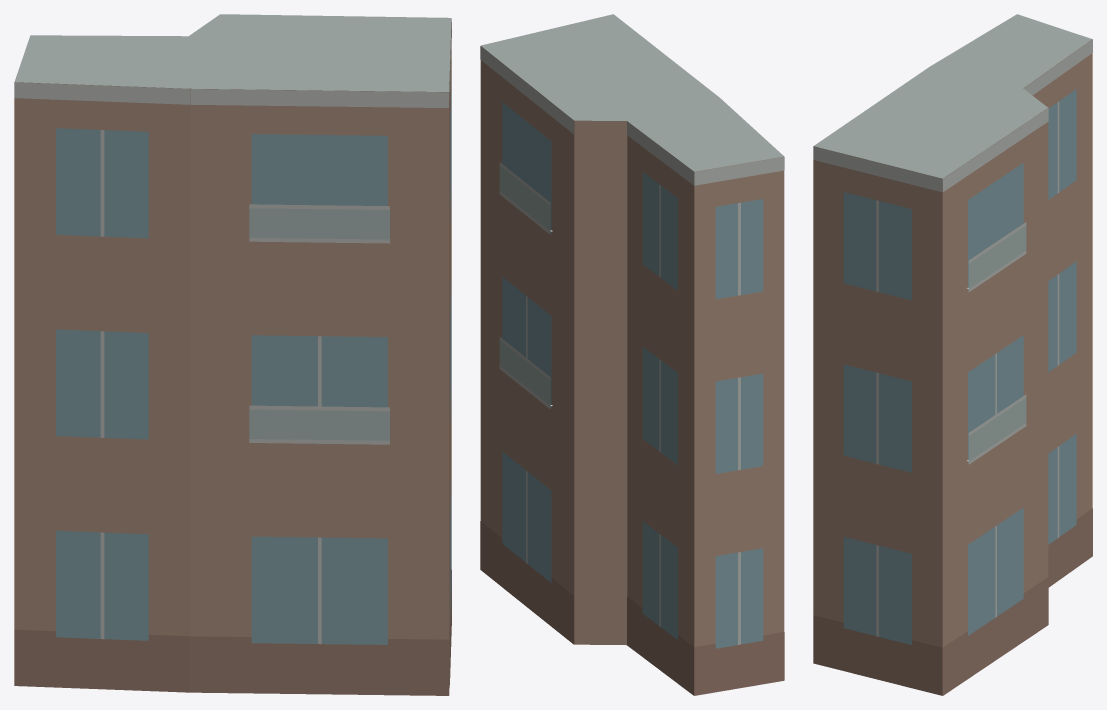
The model's file is survey-upis-32555984.glb.
3 views of the same model, side by side, from view 1: azimuth 30°, elevation 25°; view 2: azimuth 150°, elevation 25°; view 3: azimuth 270°, elevation 25° (orthographic). The views are drawn at different scales.
Visible parts, largest first — view 1: survey-upis-32555984.tmp; view 2: survey-upis-32555984.tmp; view 3: survey-upis-32555984.tmp.
Part boxes in pixels (box(x1,y1,x2,y2)): survey-upis-32555984.tmp: box(14, 14, 451, 695); survey-upis-32555984.tmp: box(480, 14, 784, 695); survey-upis-32555984.tmp: box(813, 14, 1092, 695).
Bounding box in the file's own units: 6.25 × 9.15 × 4.49.
